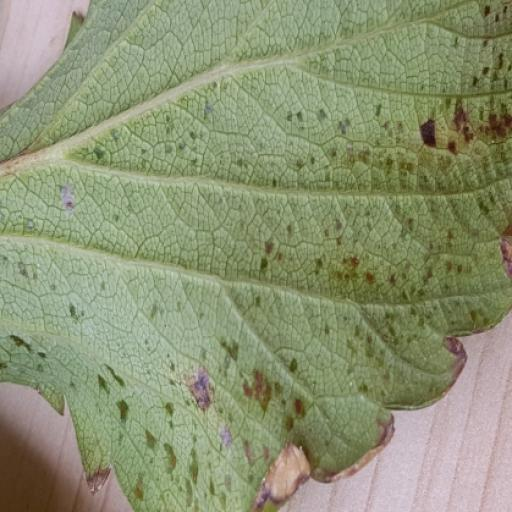Angular Leafspot: (0, 0, 511, 511)
